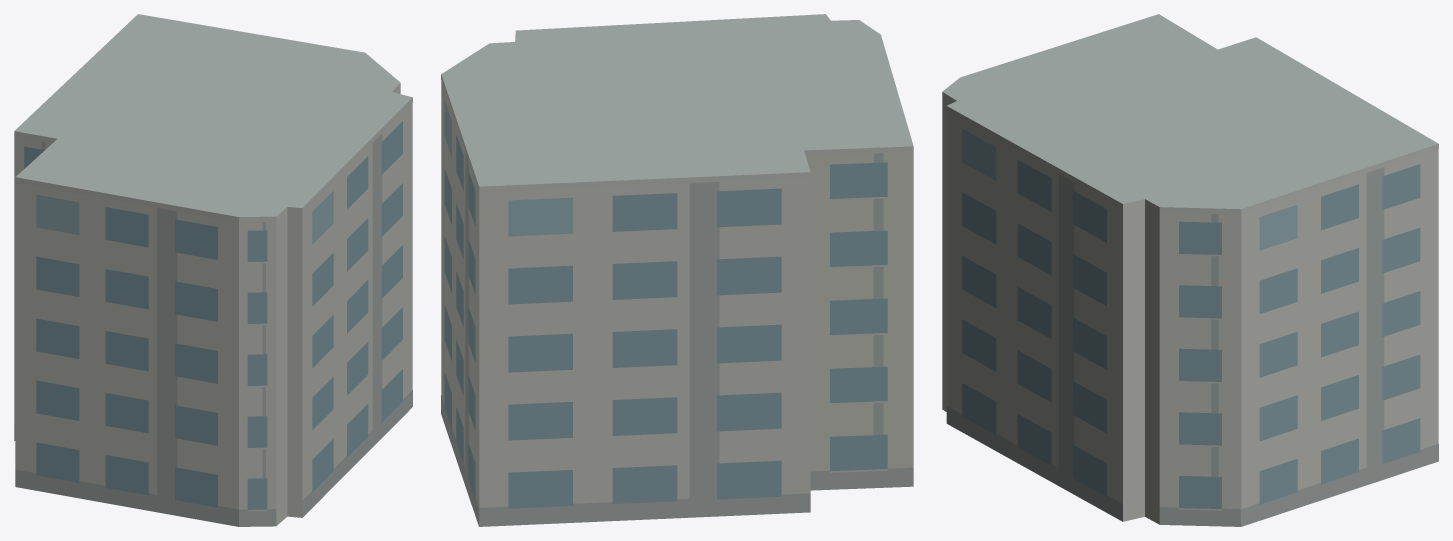
Rendered from survey-upis-32710475.glb.
3 views of the same model, side by side, from view 1: azimuth 30°, elevation 25°; view 2: azimuth 150°, elevation 25°; view 3: azimuth 270°, elevation 25° (orthographic). The views are drawn at different scales.
Parts seen in each view (by area): view 1: survey-upis-32710475.tmp; view 2: survey-upis-32710475.tmp; view 3: survey-upis-32710475.tmp.
Part boxes in pixels (box(x1,y1,x2,y2)): survey-upis-32710475.tmp: box(14, 14, 412, 526); survey-upis-32710475.tmp: box(441, 14, 913, 526); survey-upis-32710475.tmp: box(942, 14, 1438, 526).
Bounding box in the file's own units: 18.72 × 14.2 × 20.12.
